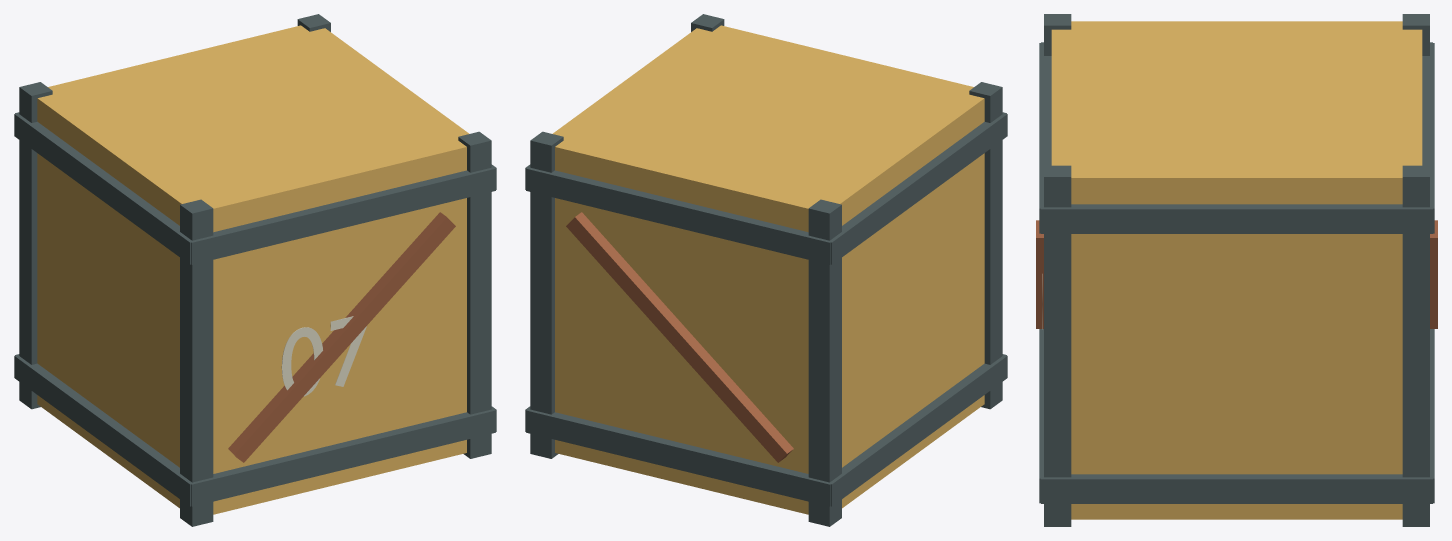
Rendered from crate.glb.
The picture shows the model from 3 angles, left to right: view 1: azimuth 30°, elevation 25°; view 2: azimuth 150°, elevation 25°; view 3: azimuth 270°, elevation 25°; orthographic projection. The views are drawn at different scales.
Parts seen in each view (by area): view 1: Crate body, Crate corner, Crate rail, Crate rail.004, Crate corner.002, Crate diagonal, Crate rail.006, Crate rail.002, Crate corner.001, Stencil 07.001; view 2: Crate body, Crate corner.001, Crate rail.001, Crate rail.005, Crate diagonal.001, Crate corner.003, Crate rail.006, Crate rail.002, Crate corner; view 3: Crate body, Crate rail.003, Crate rail.007, Crate corner.002, Crate corner.003, Crate rail.004, Crate rail.005, Crate diagonal, Crate diagonal.001, Crate rail.001, Crate rail, Crate corner (+1 smaller).
Boxes of the visible parts, left/top/right/bottom form: Crate body: left=37, top=25, right=469, bottom=514; Crate corner: left=180, top=199, right=213, bottom=526; Crate rail: left=183, top=407, right=495, bottom=506; Crate rail.004: left=182, top=166, right=495, bottom=264; Crate corner.002: left=458, top=131, right=491, bottom=458; Crate diagonal: left=228, top=212, right=455, bottom=462; Crate rail.006: left=14, top=113, right=202, bottom=264; Crate rail.002: left=14, top=355, right=191, bottom=506; Crate corner.001: left=19, top=82, right=52, bottom=409; Stencil 07.001: left=281, top=316, right=366, bottom=396; Crate body: left=552, top=25, right=984, bottom=514; Crate corner.001: left=808, top=199, right=841, bottom=526; Crate rail.001: left=526, top=407, right=838, bottom=506; Crate rail.005: left=526, top=166, right=839, bottom=264; Crate diagonal.001: left=566, top=212, right=793, bottom=462; Crate corner.003: left=530, top=131, right=563, bottom=458; Crate rail.006: left=818, top=113, right=1007, bottom=264; Crate rail.002: left=830, top=355, right=1007, bottom=506; Crate corner: left=969, top=82, right=1002, bottom=409; Crate body: left=1051, top=21, right=1422, bottom=519; Crate rail.003: left=1041, top=471, right=1432, bottom=503; Crate rail.007: left=1041, top=200, right=1432, bottom=233; Crate corner.002: left=1044, top=165, right=1071, bottom=526; Crate corner.003: left=1402, top=165, right=1429, bottom=526; Crate rail.004: left=1039, top=43, right=1060, bottom=233; Crate rail.005: left=1413, top=43, right=1434, bottom=233; Crate diagonal: left=1036, top=220, right=1043, bottom=328; Crate diagonal.001: left=1430, top=220, right=1437, bottom=328; Crate rail.001: left=1430, top=329, right=1434, bottom=503; Crate rail: left=1039, top=329, right=1043, bottom=503; Crate corner: left=1044, top=14, right=1071, bottom=55.
Size of the model in its own units: 1.3 by 1.27 by 1.32.
